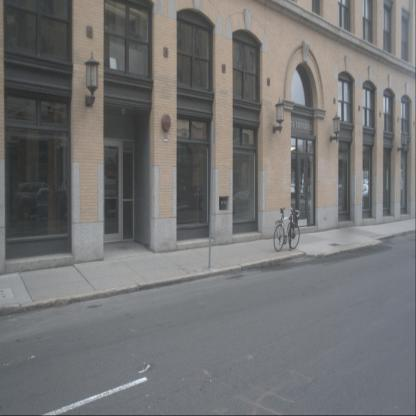vehicle-bicycle: (273, 206, 300, 252)
vehicle-car: (13, 182, 68, 222), (186, 185, 224, 211), (227, 190, 261, 213)
